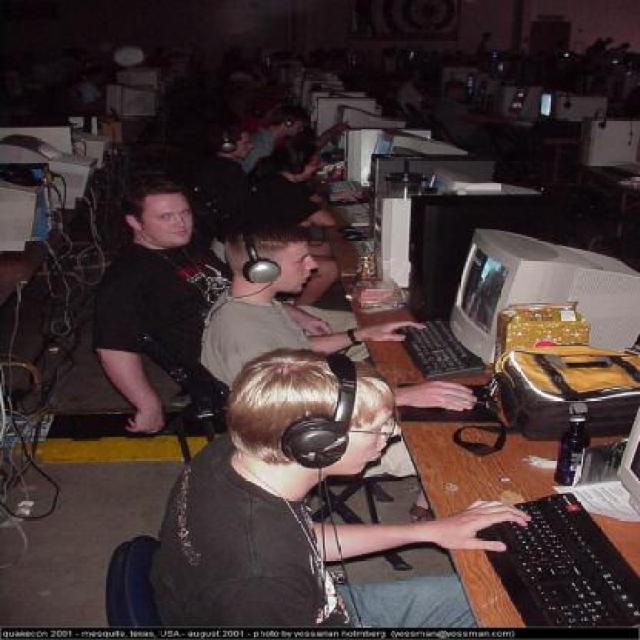earphone: (292, 342, 365, 492), (226, 216, 286, 296), (212, 125, 243, 158), (275, 105, 300, 138)
laptop_computer: (415, 232, 540, 373), (573, 107, 627, 178), (528, 72, 572, 125)
